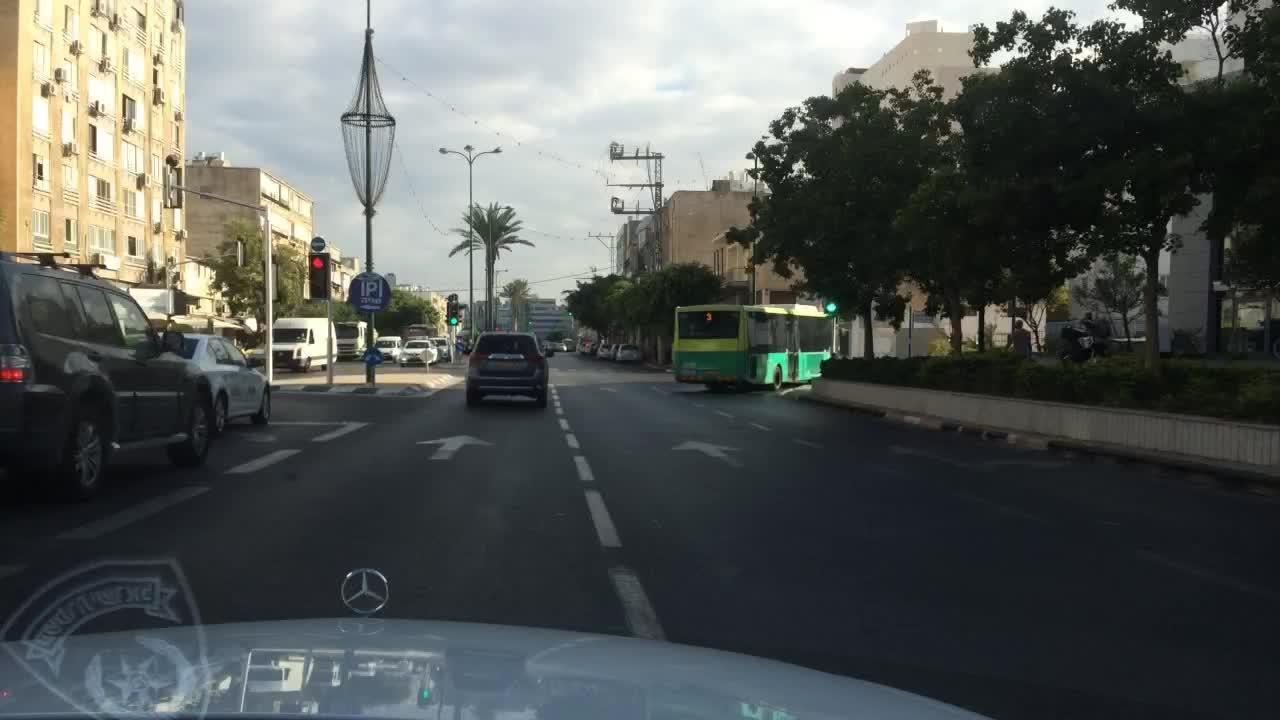Mercedes: (326, 558, 420, 627)
